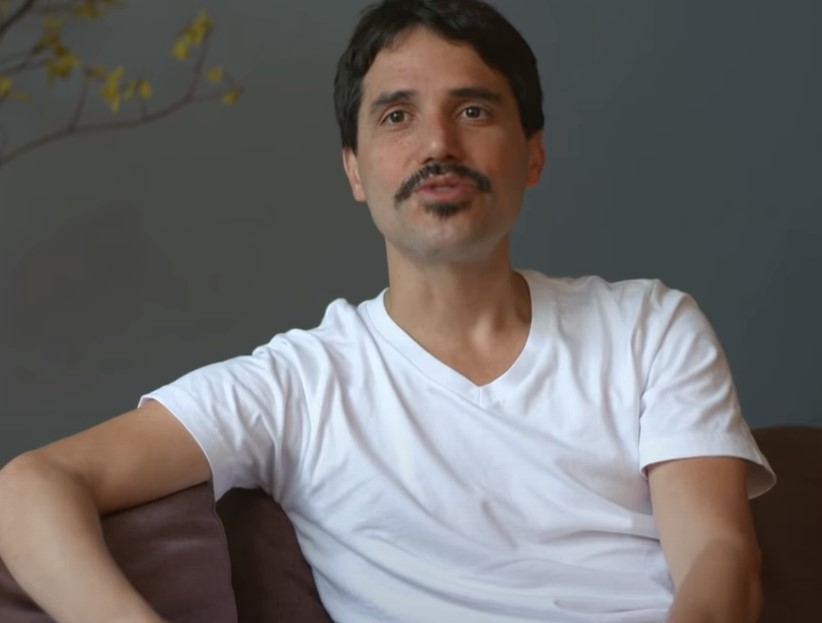face_no_mask: (333, 4, 550, 270)
